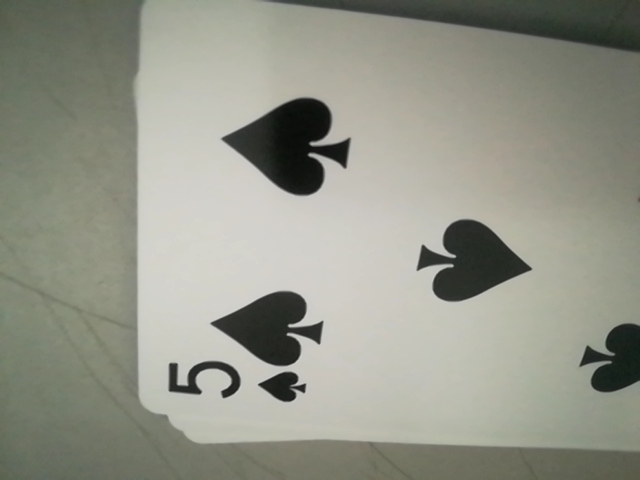ht 5: (161, 357, 317, 419)
